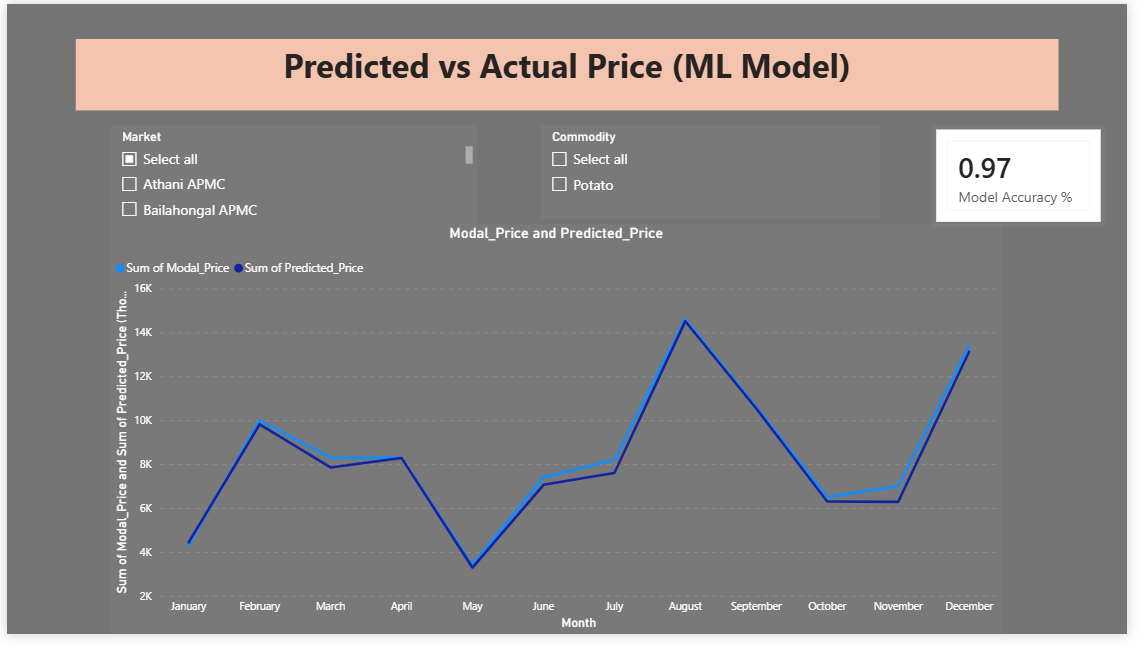

The dashboard page shown, as its layout file describes it:
{"tool":"powerbi","page":{"name":"Price Predictor","canvas":[1280,720],"ordinal":2},"visuals":[{"type":"lineChart","title":" Modal_Price and Predicted_Price ","fields":{"Category":["agripriceintelligence_powerbi.Arrival_Date.Variation.Date Hierarchy.Month","agripriceintelligence_powerbi.Arrival_Date.Variation.Date Hierarchy.Day"],"Y":["Sum(agripriceintelligence_powerbi.Modal_Price)","Sum(agripriceintelligence_powerbi.Predicted_Price)"]},"box":[118.6,251.4,1018.6,468.6],"z":0},{"type":"slicer","fields":{"Values":["agripriceintelligence_powerbi.Commodity"]},"box":[610,138.6,387.1,107.1],"z":1},{"type":"slicer","fields":{"Values":["agripriceintelligence_powerbi.Market"]},"box":[118.3,138.3,418.3,113.3],"z":2},{"type":"cardVisual","fields":{"Data":["agripriceintelligence_powerbi.Model Accuracy %"]},"box":[1057.1,138.6,198.6,115.7],"z":3},{"type":"textbox","box":[78.6,40,1122.9,81.4],"z":4}]}

Visuals, with their boxes in screenshot pixels (x1, y1, x2, y2), scaled from the page's 1280x720 canvas onto the 1148x653 screenshot:
" Modal_Price and Predicted_Price " lineChart: (left=106, top=228, right=1020, bottom=652)
slicer - agripriceintelligence_powerbi.Commodity: (left=547, top=126, right=894, bottom=223)
slicer - agripriceintelligence_powerbi.Market: (left=106, top=125, right=481, bottom=228)
cardVisual - agripriceintelligence_powerbi.Model Accuracy %: (left=948, top=126, right=1126, bottom=231)
textbox: (left=70, top=36, right=1078, bottom=110)
